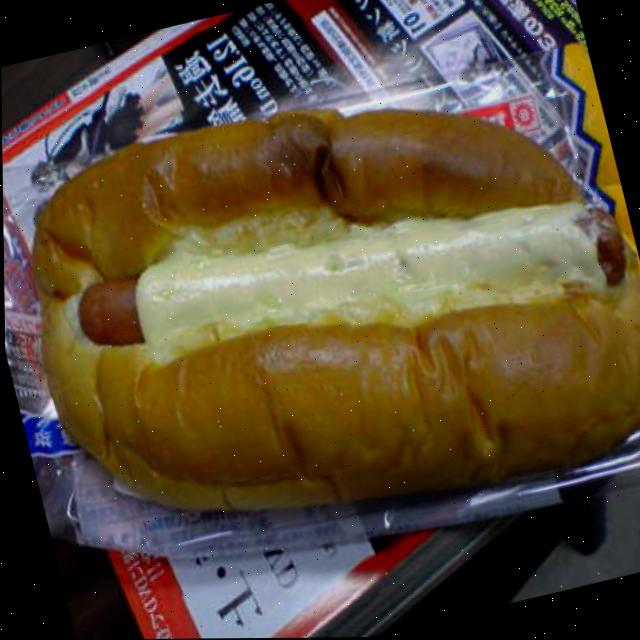三明治: (0, 34, 640, 551)
